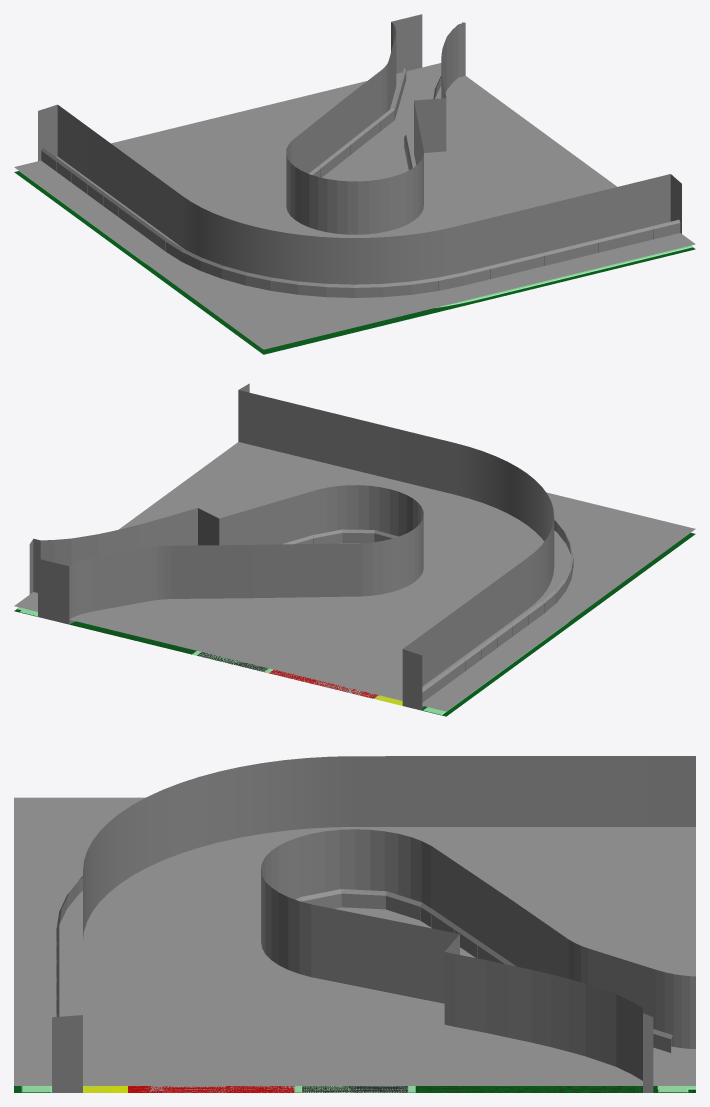
Rendered from RT HairP V01 T01 QLB SNAP.FBX.
3 renders of one model, top to bottom at view 1: azimuth 30°, elevation 25°; view 2: azimuth 150°, elevation 25°; view 3: azimuth 270°, elevation 25°, orthographic. The views are drawn at different scales.
Visible parts, largest first — view 1: RT HairP V01 T01 QLB SNAP, RT HairP V01 COLL OUT, RT HairP V01 COLL IN, RT HairP V01 Fence Shared OUT, RT HairP V01 NAV Grass OUT, RT HairP V01 Fence Shared IN, RT HairP V01 SR OUT LOW; view 2: RT HairP V01 T01 QLB SNAP, RT HairP V01 COLL IN, RT HairP V01 COLL OUT, RT HairP V01 Fence Shared OUT, RT HairP V01 NAV Grass OUT, RT HairP V01 Fence Shared IN, RT HairP V01 RubW OUT HI, RT HairP V01 T01 LOW, RT HairP V01 NAV Grass IN, RT HairP V01 NAV ColAsp C03; view 3: RT HairP V01 T01 QLB SNAP, RT HairP V01 COLL IN, RT HairP V01 COLL OUT, RT HairP V01 Fence Shared IN, RT HairP V01 RubW OUT HI, RT HairP V01 T01 LOW, RT HairP V01 NAV Grass IN, RT HairP V01 NAV ColAsp C03, RT HairP V01 NAV Road, RT HairP V01 Fence Shared OUT.
Part boxes in pixels (x1,y1,x2,y2): RT HairP V01 T01 QLB SNAP: [14, 63, 695, 349]; RT HairP V01 COLL OUT: [38, 104, 681, 284]; RT HairP V01 COLL IN: [286, 14, 465, 234]; RT HairP V01 Fence Shared OUT: [41, 148, 680, 297]; RT HairP V01 NAV Grass OUT: [14, 171, 695, 354]; RT HairP V01 Fence Shared IN: [309, 68, 441, 177]; RT HairP V01 SR OUT LOW: [19, 171, 692, 304]; RT HairP V01 T01 QLB SNAP: [14, 442, 695, 711]; RT HairP V01 COLL IN: [29, 485, 423, 624]; RT HairP V01 COLL OUT: [238, 383, 554, 710]; RT HairP V01 Fence Shared OUT: [422, 520, 573, 707]; RT HairP V01 NAV Grass OUT: [422, 533, 695, 716]; RT HairP V01 Fence Shared IN: [282, 529, 397, 544]; RT HairP V01 RubW OUT HI: [403, 532, 570, 709]; RT HairP V01 T01 LOW: [16, 609, 401, 703]; RT HairP V01 NAV Grass IN: [14, 609, 196, 655]; RT HairP V01 NAV ColAsp C03: [264, 669, 378, 698]; RT HairP V01 T01 QLB SNAP: [14, 797, 695, 1085]; RT HairP V01 COLL IN: [261, 829, 695, 1092]; RT HairP V01 COLL OUT: [52, 756, 695, 1092]; RT HairP V01 Fence Shared IN: [296, 889, 671, 1052]; RT HairP V01 RubW OUT HI: [59, 894, 82, 1092]; RT HairP V01 T01 LOW: [83, 1086, 694, 1092]; RT HairP V01 NAV Grass IN: [408, 1086, 695, 1092]; RT HairP V01 NAV ColAsp C03: [128, 1086, 300, 1092]; RT HairP V01 NAV Road: [302, 1086, 407, 1092]; RT HairP V01 Fence Shared OUT: [56, 876, 82, 1016].
Bounding box in the file's own units: 90.01 × 11.61 × 90.
